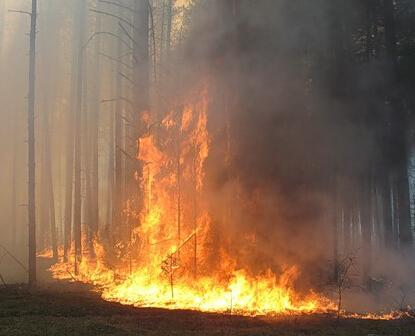fire: (59, 241, 329, 312), (136, 115, 206, 260)
smoke: (2, 3, 131, 242), (214, 19, 341, 239), (135, 5, 213, 111), (345, 234, 413, 307)
